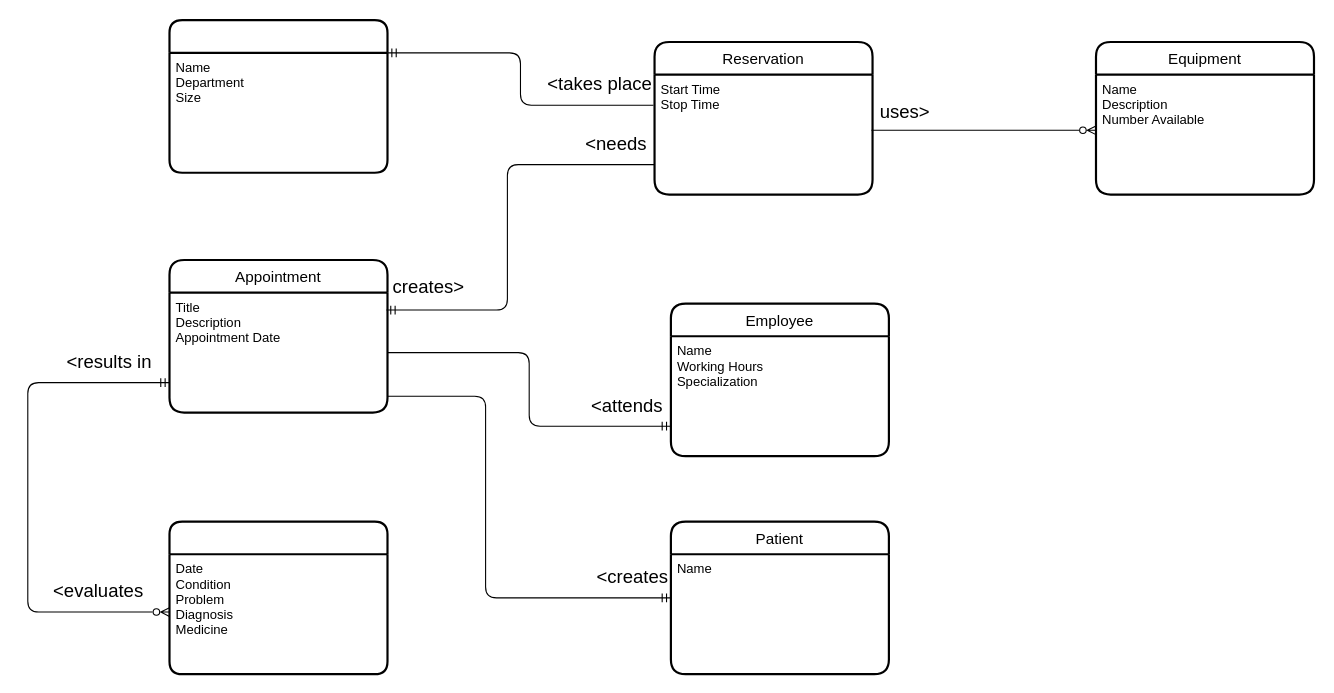
The diagram is 1334 pixels wide and 693 high, and some of its shapes have lost their labels. The box of each missing label's shape, as (x1, y1, x2, y2) in pixels:
Room: (168, 19, 388, 173)
Summary: (168, 520, 388, 675)
